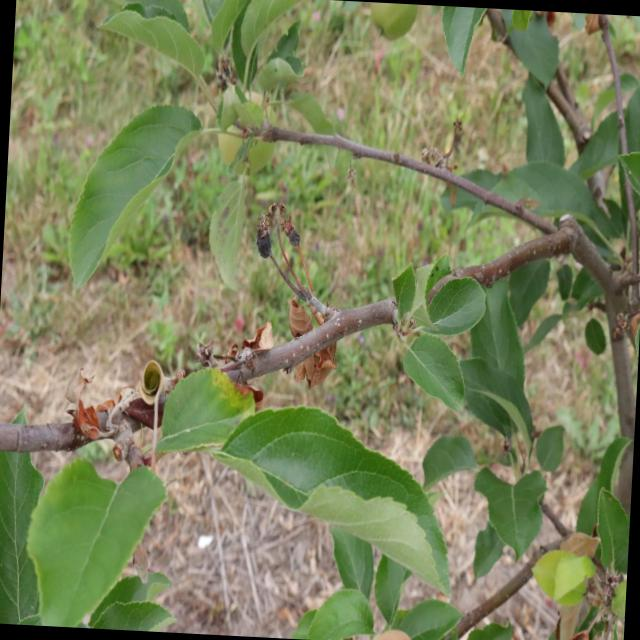-FireBlight-: (206, 330, 288, 410), (282, 278, 341, 384), (73, 400, 130, 440)
